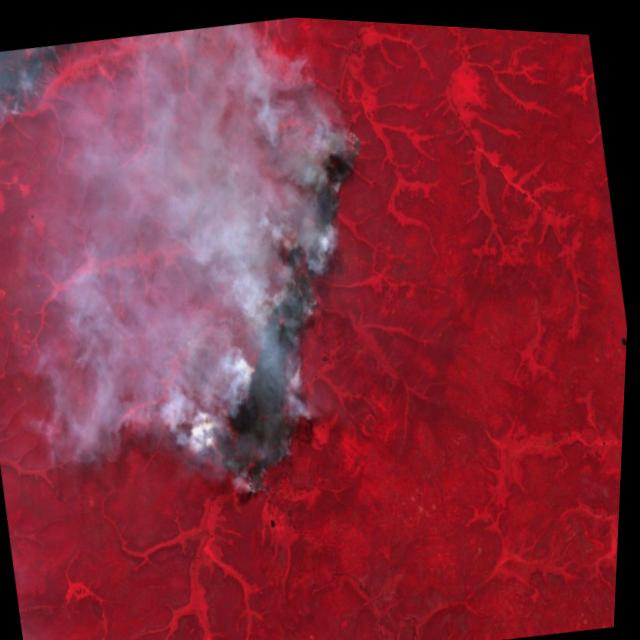fire: (124, 102, 422, 526), (0, 39, 80, 141)
